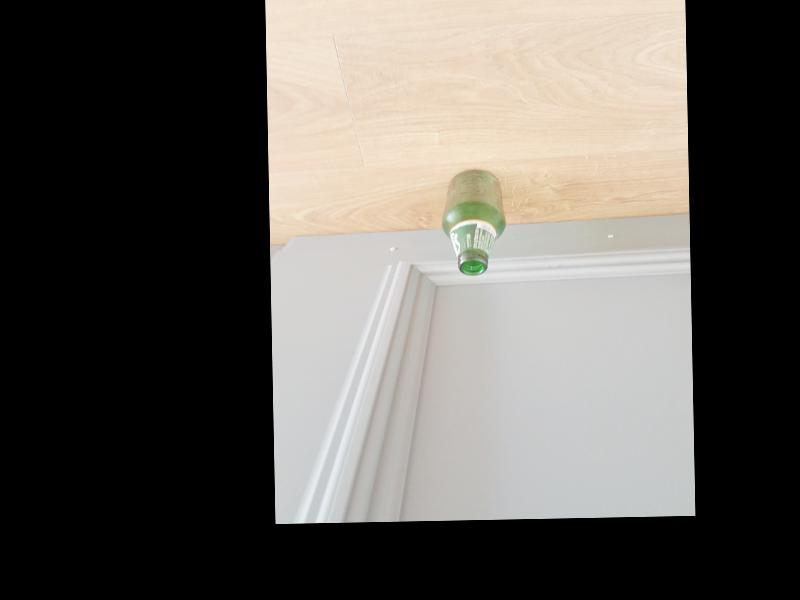Beer: (441, 168, 507, 275)
